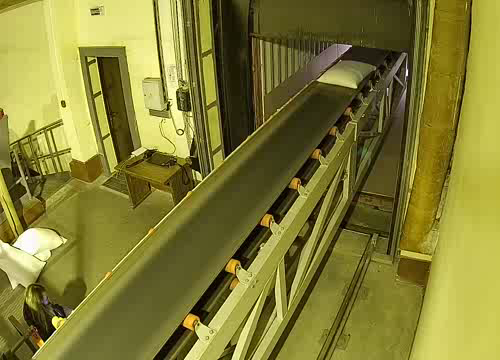bag: (314, 55, 383, 90)
